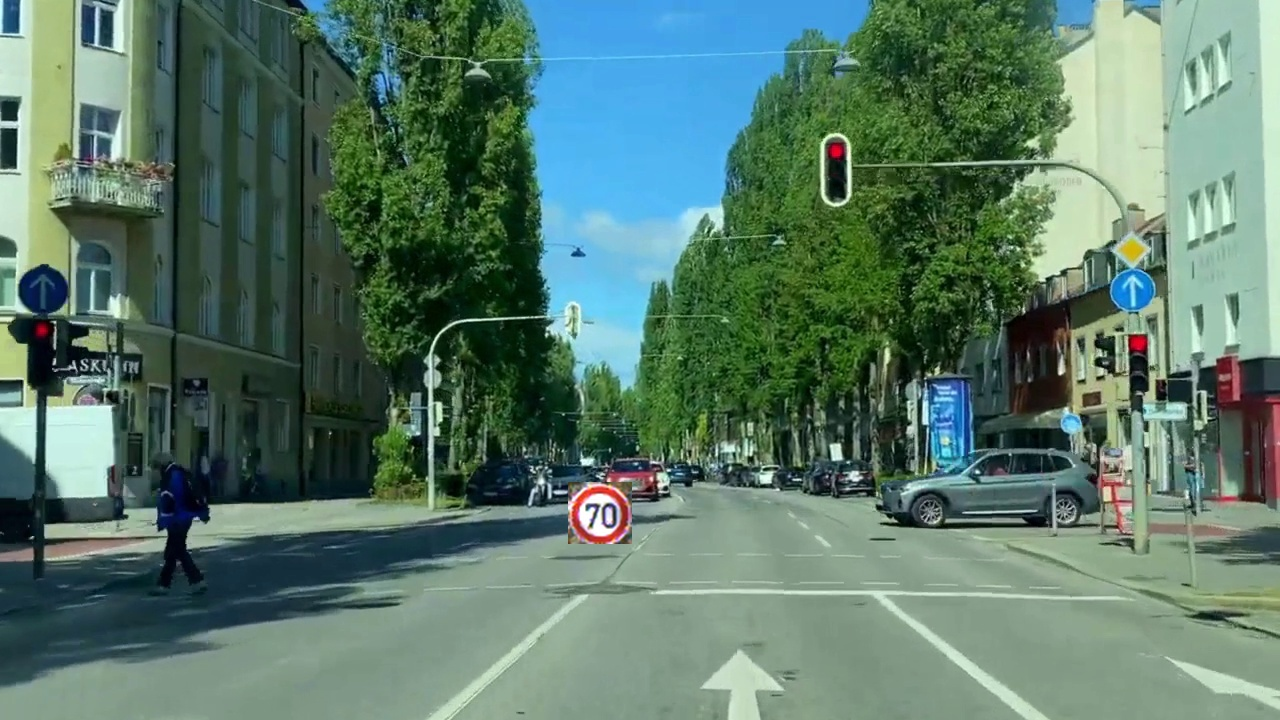Speed 70: (568, 482, 632, 544)
